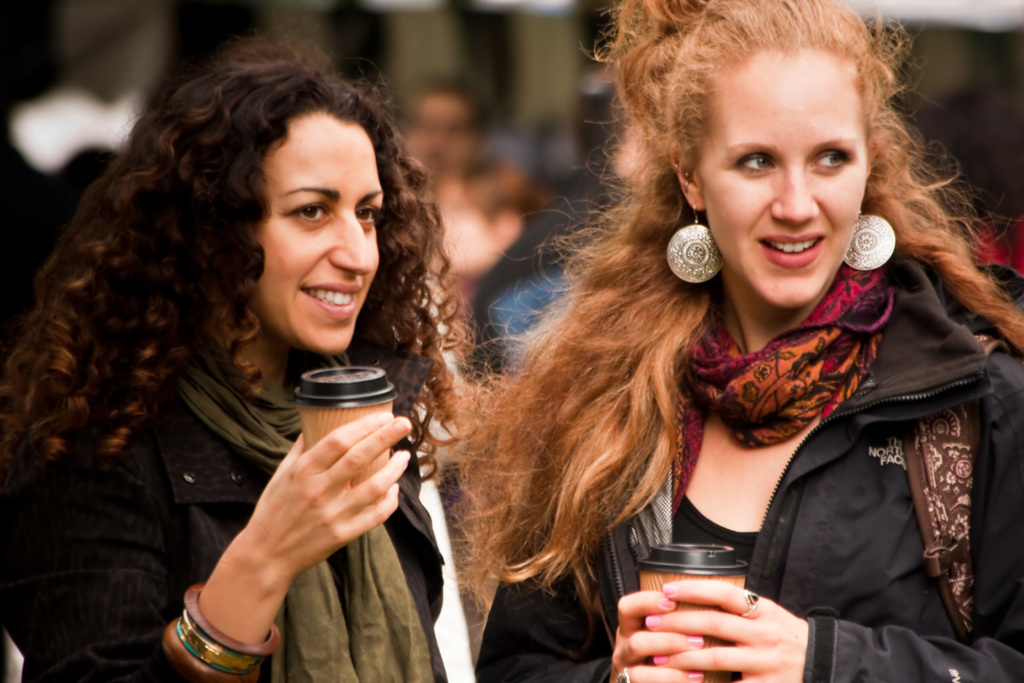Human-face: (698, 47, 869, 307), (252, 108, 383, 358)
